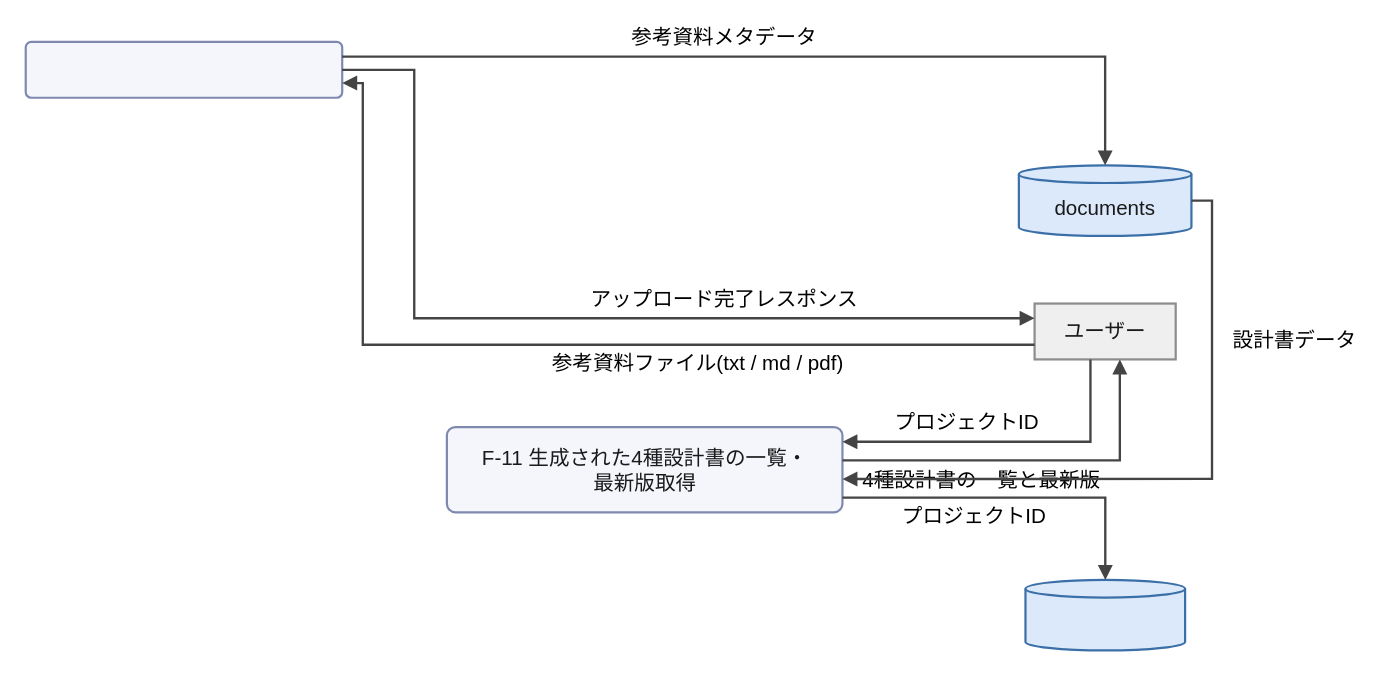
Some shapes in this 1382 by 678 pixel diagram are drawn without their labels. The centre of each missing label's shape, as x and y in pixels:
"F-05 参考資料アップロード" belongs at [183,69].
"projects" belongs at [1105,614].
